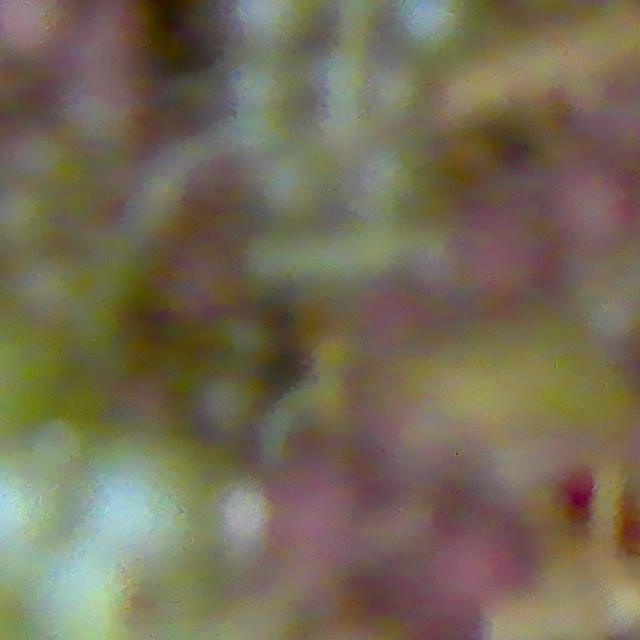SeaGrape: (542, 152, 640, 256), (451, 220, 549, 308), (395, 0, 480, 64), (0, 467, 60, 553), (0, 0, 66, 64)
